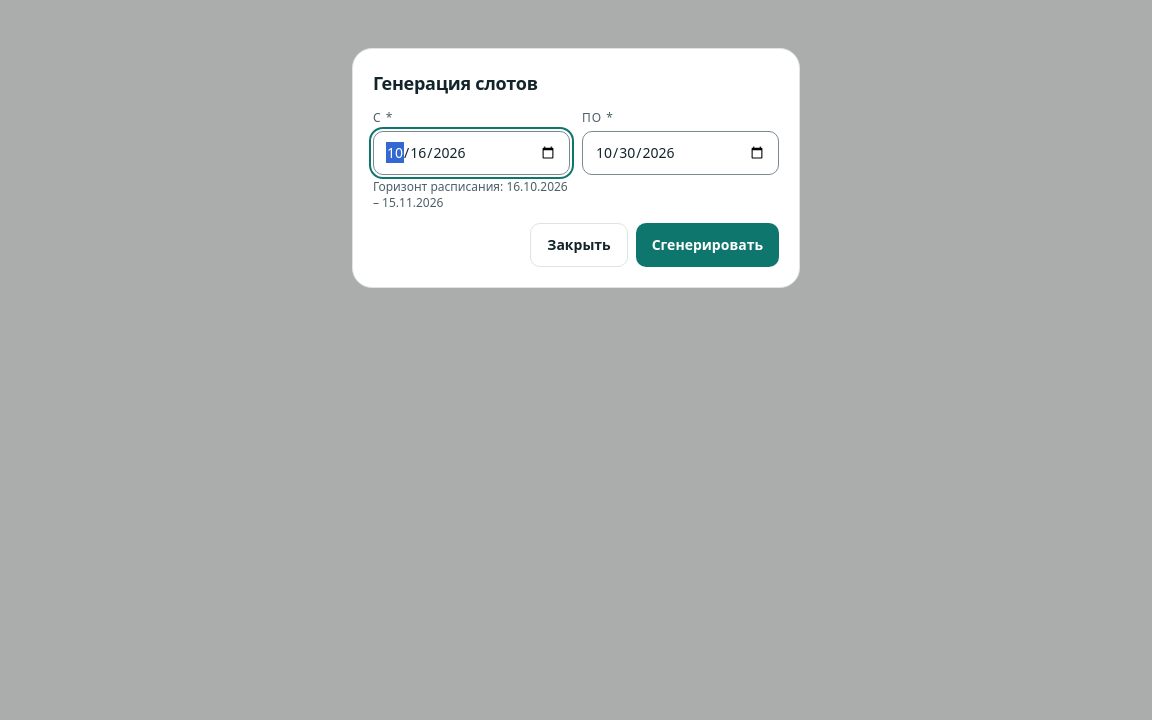
SlotGenerationDialog › should show the problem when the schedule is no longer active and the server answers 409
Step 1. Click the button "Сгенерировать" → (707, 245), box left=636, top=223, right=779, bottom=267
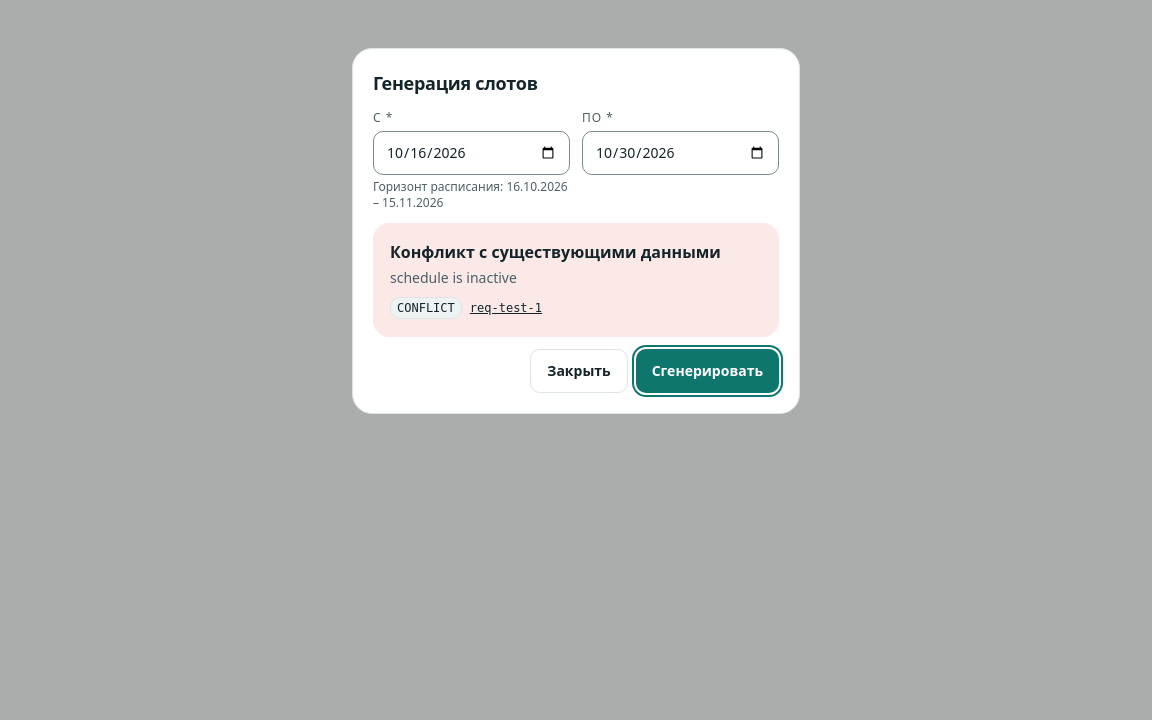
Expected: the message shows "Конфликт с существующими данными", left=390, top=241, right=721, bottom=263
